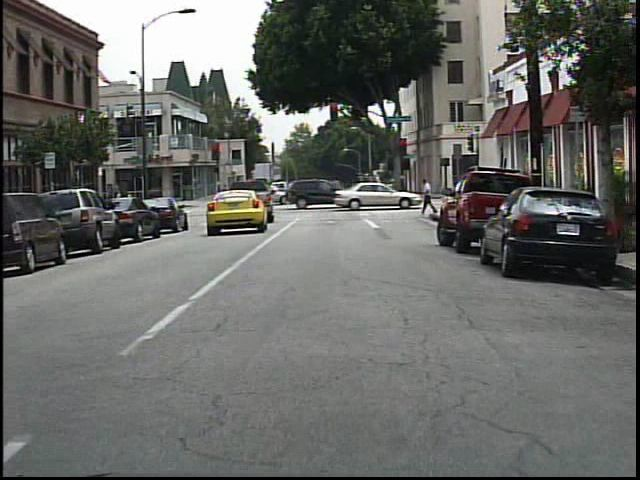person: (415, 174, 439, 218)
